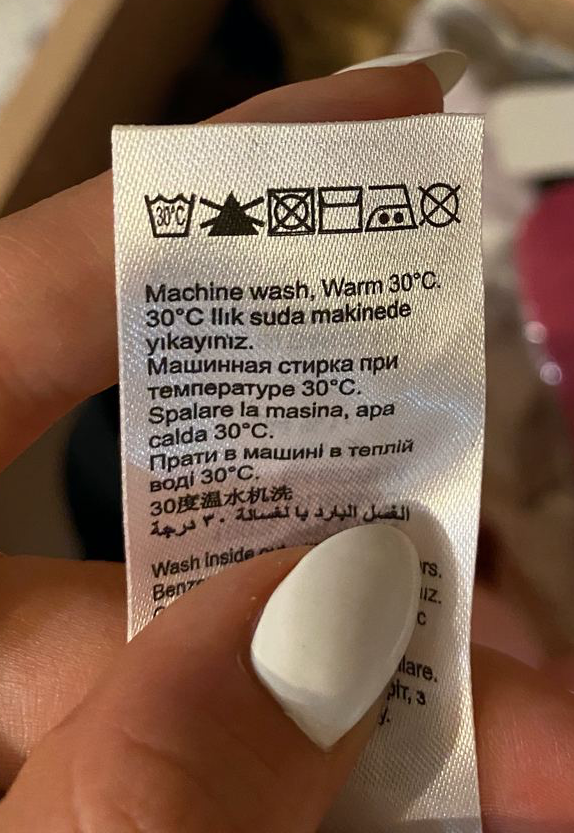do_not_bleach: (200, 187, 265, 241)
do_not_tumble_drying: (264, 183, 317, 239), (416, 176, 465, 234)
ironing_at_med_temp: (365, 178, 417, 232)
line_dry: (316, 182, 367, 237)
wash_at_or_below_30: (142, 186, 198, 246)
